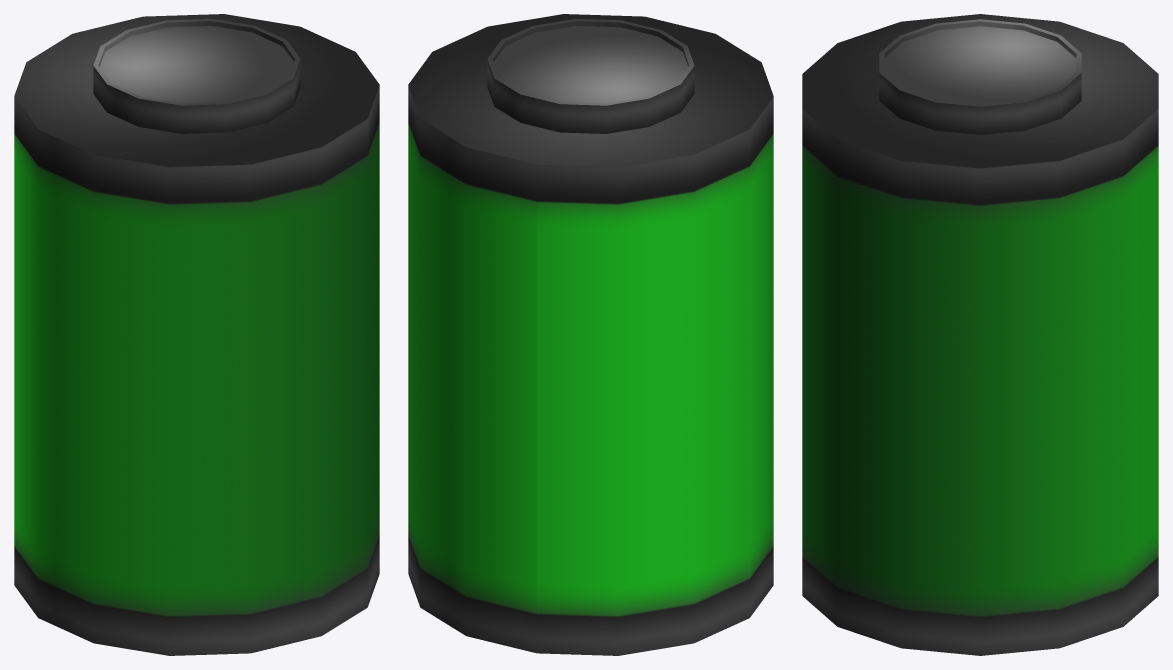
File: Battery+Pickup.fbx
3 views of the same model, side by side, from view 1: azimuth 30°, elevation 25°; view 2: azimuth 150°, elevation 25°; view 3: azimuth 270°, elevation 25° (orthographic).
Parts seen in each view (by area): view 1: pCylinder1; view 2: pCylinder1; view 3: pCylinder1.
Boxes of the visible parts, x1=… form: pCylinder1: x1=14, y1=14, x2=379, y2=655; pCylinder1: x1=408, y1=14, x2=773, y2=655; pCylinder1: x1=802, y1=14, x2=1158, y2=655.
Size of the model in its own units: 31.12 by 48.42 by 30.34.
1 material, 1 textured.
